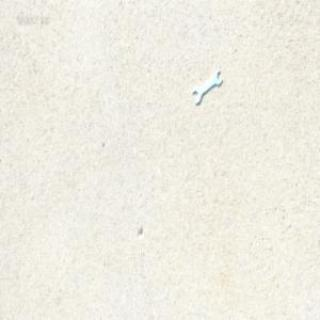Wrenchtrack_idkeyframe: (192, 68, 221, 102)
